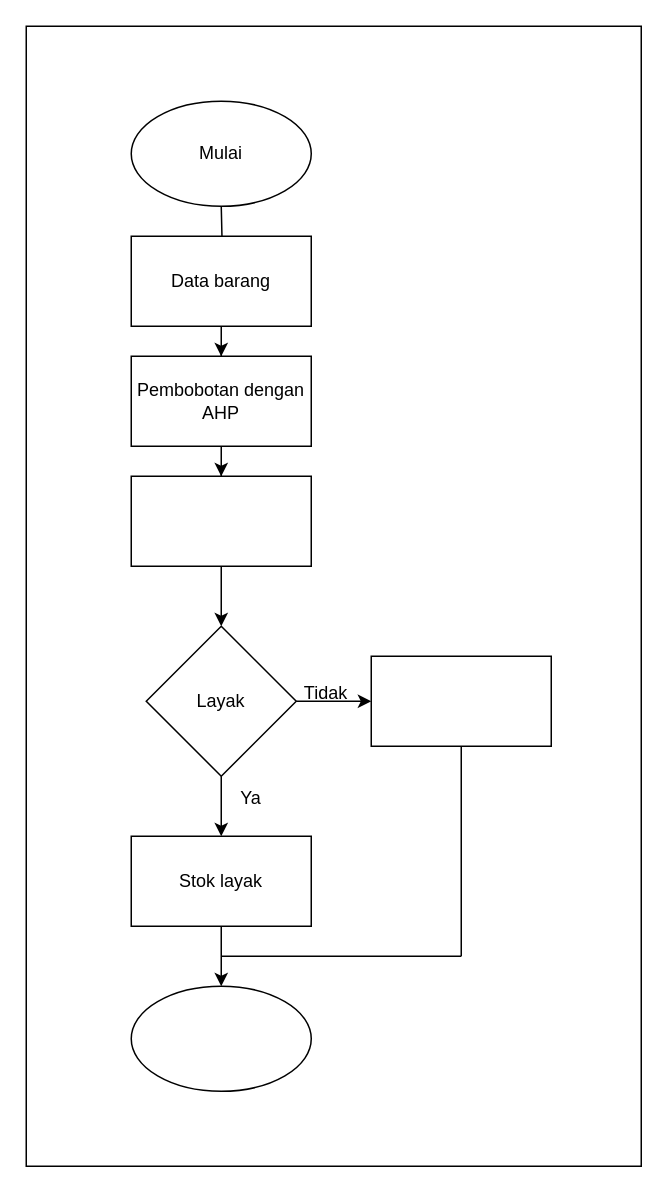
Image size: 668x1193. Some labels were removed from this diagram. Here are the shapes that lost their labels. From the top down, the box of each, then its label:
(130, 475, 311, 566): pengklasifikasian dengan decision tree
(370, 655, 551, 746): Tidak layak
(130, 985, 311, 1091): Selesai
